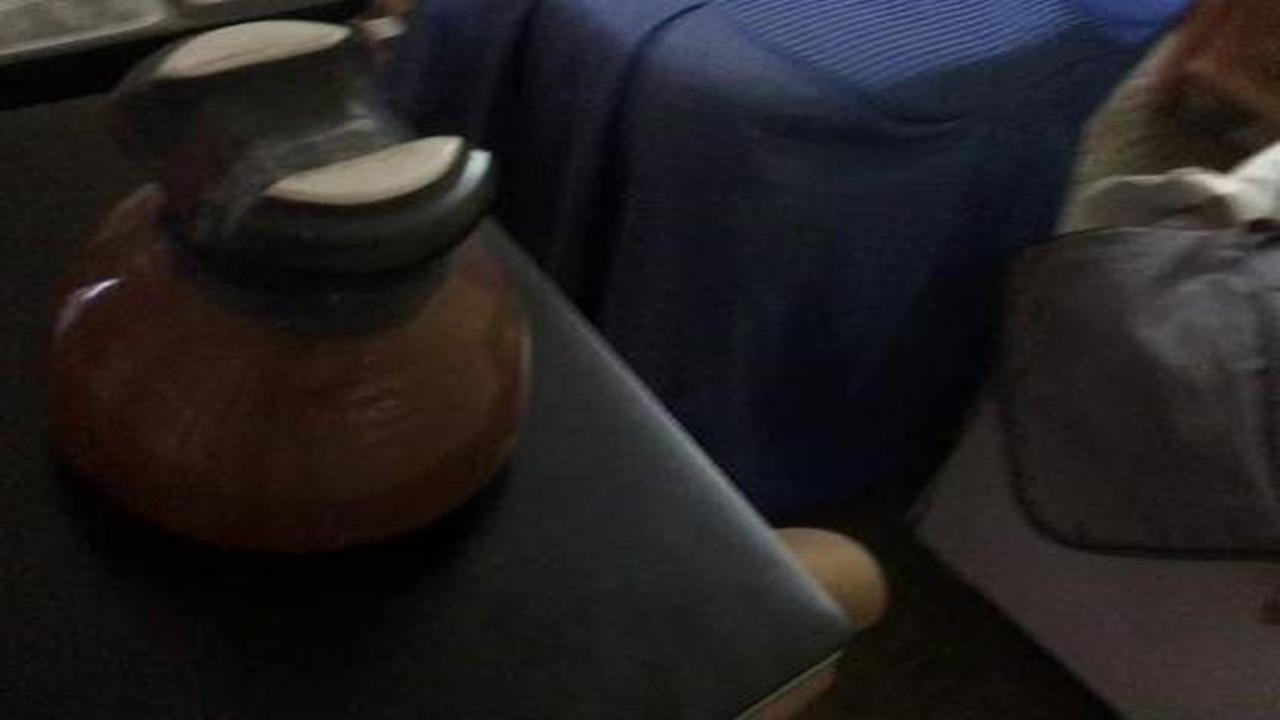insulator_pin: (34, 13, 548, 582)
